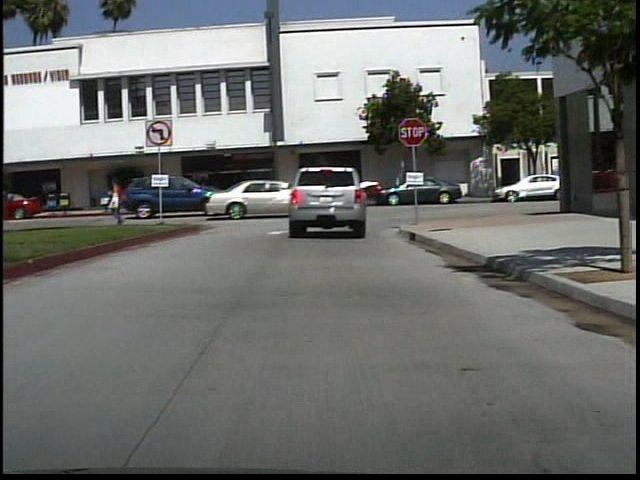person: (312, 165, 340, 230), (103, 174, 137, 227), (198, 173, 216, 206)
